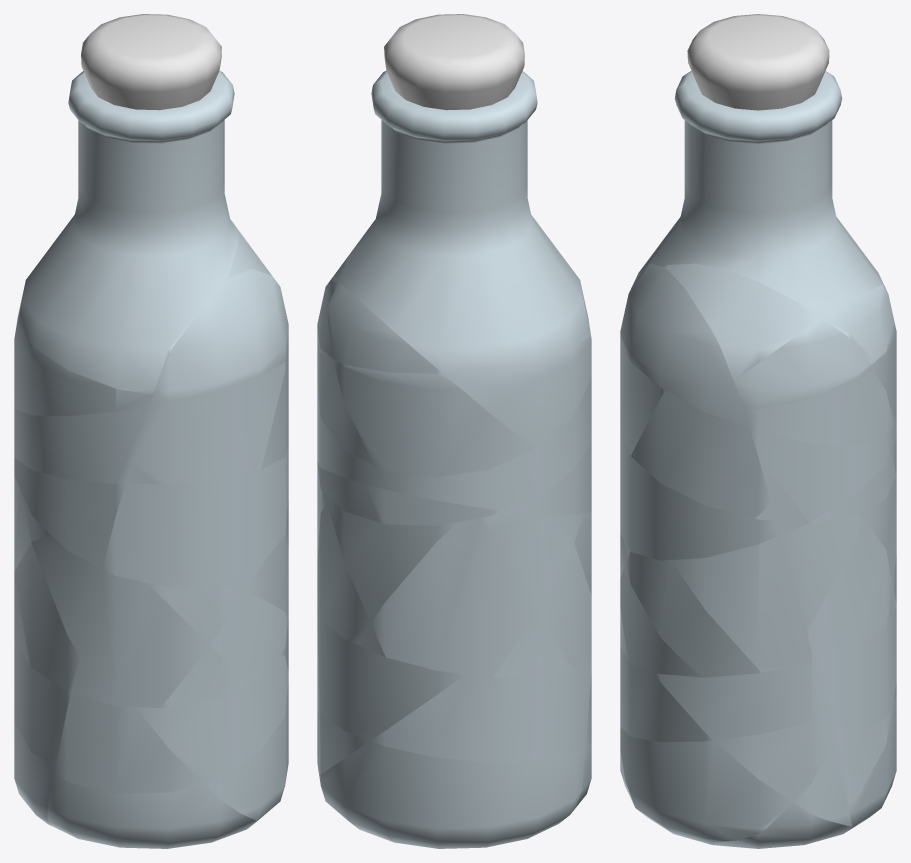
File: Broken_Bottle.fbx
3 views of the same model, side by side, from view 1: azimuth 30°, elevation 25°; view 2: azimuth 150°, elevation 25°; view 3: azimuth 270°, elevation 25° (orthographic).
Parts seen in each view (by area): view 1: polySurface52, polySurface45, polySurface69, polySurface55, polySurface39, polySurface38, polySurface79, polySurface81, polySurface84, polySurface43, polySurface44, polySurface49 (+12 smaller); view 2: polySurface52, polySurface61, polySurface76, polySurface78, polySurface50, polySurface38, polySurface43, polySurface77, polySurface49, polySurface53, polySurface65, polySurface62 (+6 smaller); view 3: polySurface52, polySurface80, polySurface38, polySurface39, polySurface56, polySurface68, polySurface53, polySurface84, polySurface45, polySurface83, polySurface54, polySurface43 (+14 smaller).
Boxes of the visible parts, x1,y1,x2,y2 form: polySurface52: [18, 70, 238, 394]; polySurface45: [102, 445, 288, 587]; polySurface69: [71, 569, 209, 707]; polySurface55: [126, 361, 285, 483]; polySurface39: [150, 269, 288, 405]; polySurface38: [81, 14, 221, 110]; polySurface79: [47, 773, 256, 848]; polySurface81: [54, 693, 202, 794]; polySurface84: [135, 655, 288, 782]; polySurface43: [14, 406, 149, 483]; polySurface44: [14, 458, 125, 568]; polySurface49: [14, 303, 152, 416]; polySurface52: [338, 70, 589, 373]; polySurface61: [371, 510, 573, 677]; polySurface76: [320, 741, 585, 848]; polySurface78: [319, 653, 591, 774]; polySurface50: [332, 359, 533, 477]; polySurface38: [384, 14, 524, 110]; polySurface43: [317, 378, 591, 510]; polySurface77: [317, 602, 465, 740]; polySurface49: [443, 319, 591, 449]; polySurface53: [317, 281, 442, 465]; polySurface65: [327, 498, 457, 622]; polySurface62: [497, 543, 591, 677]; polySurface52: [638, 71, 884, 318]; polySurface80: [620, 727, 792, 842]; polySurface38: [687, 14, 829, 110]; polySurface39: [620, 263, 749, 428]; polySurface56: [631, 391, 771, 518]; polySurface68: [671, 544, 813, 672]; polySurface53: [743, 285, 894, 445]; polySurface84: [620, 648, 833, 801]; polySurface45: [620, 429, 779, 560]; polySurface83: [654, 661, 827, 740]; polySurface54: [663, 263, 821, 381]; polySurface43: [749, 421, 896, 522].
Size of the model in its own units: 0.468 by 1.43 by 0.468.
